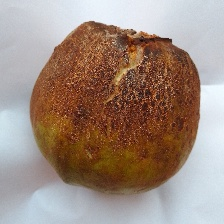guava: (33, 36, 209, 203)
